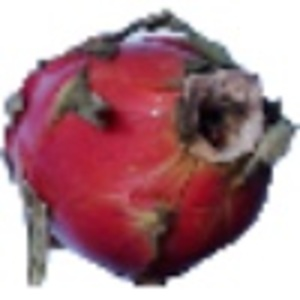pitaia: (1, 10, 300, 288)
